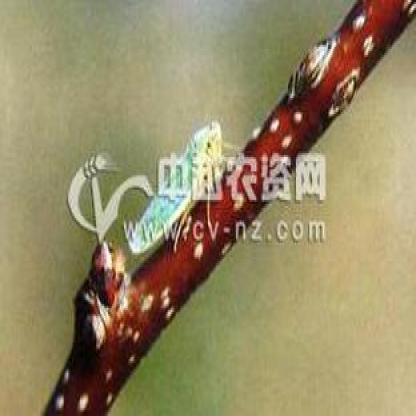Green-Leafhopper: (124, 116, 233, 257)
